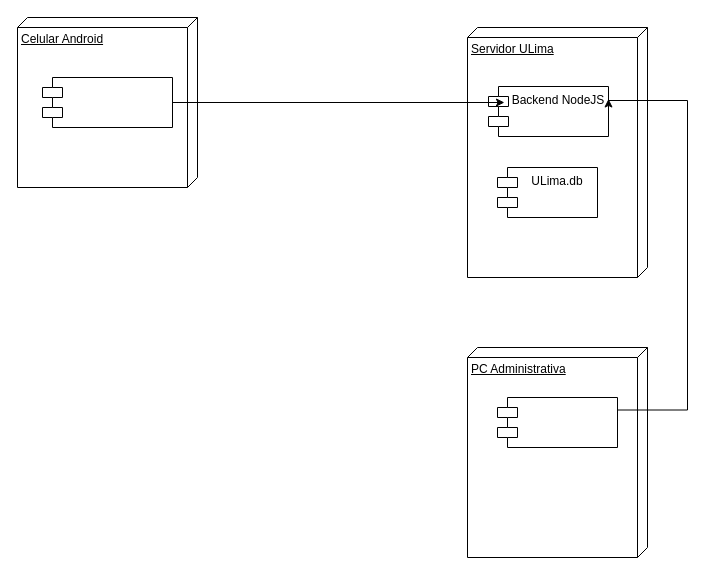
Image size: 713x575. Some labels were removed from this diagram. The shapes that lost their labels are listed below. From the top down, each one's centre as x and y in pixels, then its label:
the point at 107,102: App de asistencias flutter
the point at 557,422: Navegador Web
